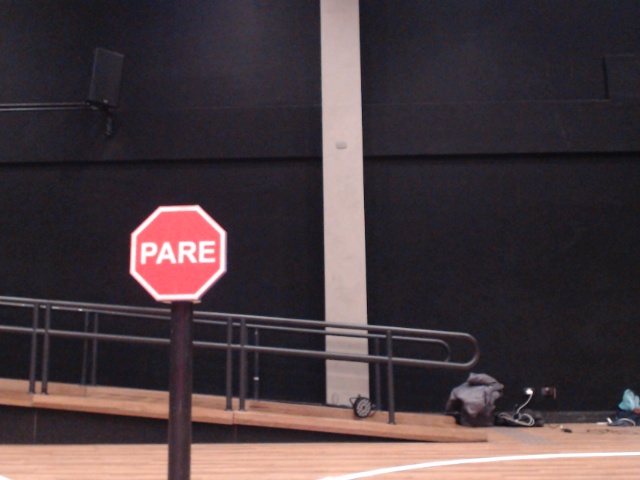SEMAFORO: (112, 192, 258, 327)
